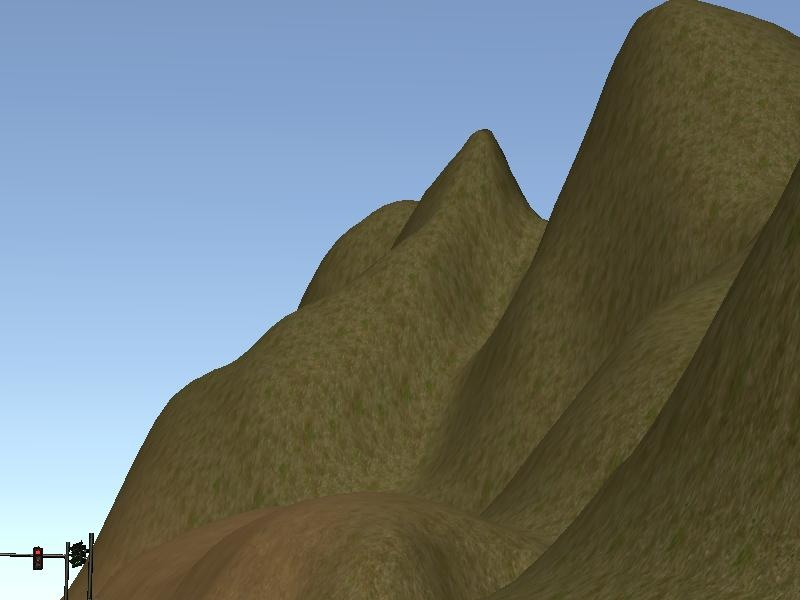traffic_light_red: (1, 544, 69, 571)
